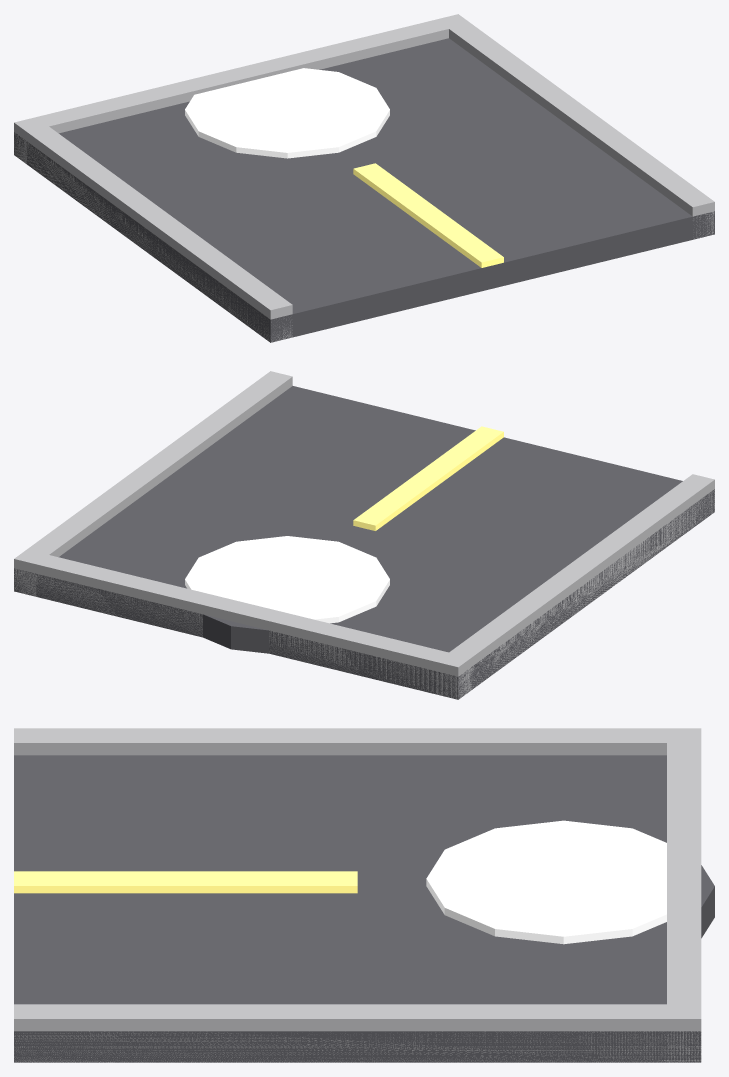
The model's file is road_end_1.glb.
3 views of the same model, one above another, from view 1: azimuth 30°, elevation 25°; view 2: azimuth 150°, elevation 25°; view 3: azimuth 270°, elevation 25° (orthographic). The views are drawn at different scales.
Parts seen in each view (by area): view 1: road_end_1; view 2: road_end_1; view 3: road_end_1.
Part boxes in pixels (bbox=[...]): road_end_1: bbox=[14, 14, 714, 342]; road_end_1: bbox=[14, 371, 714, 699]; road_end_1: bbox=[14, 728, 714, 1062].
Size of the model in its own units: 1 by 0.07 by 1.02.
